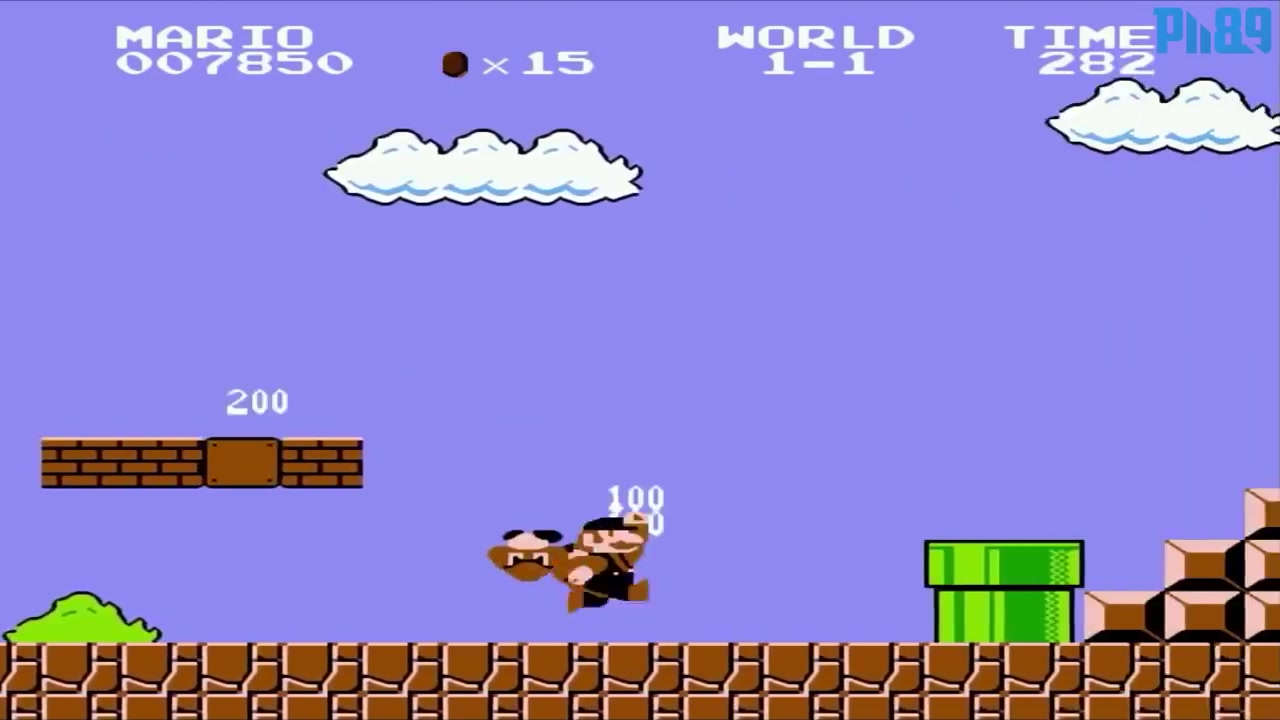mario: (554, 505, 674, 608)
